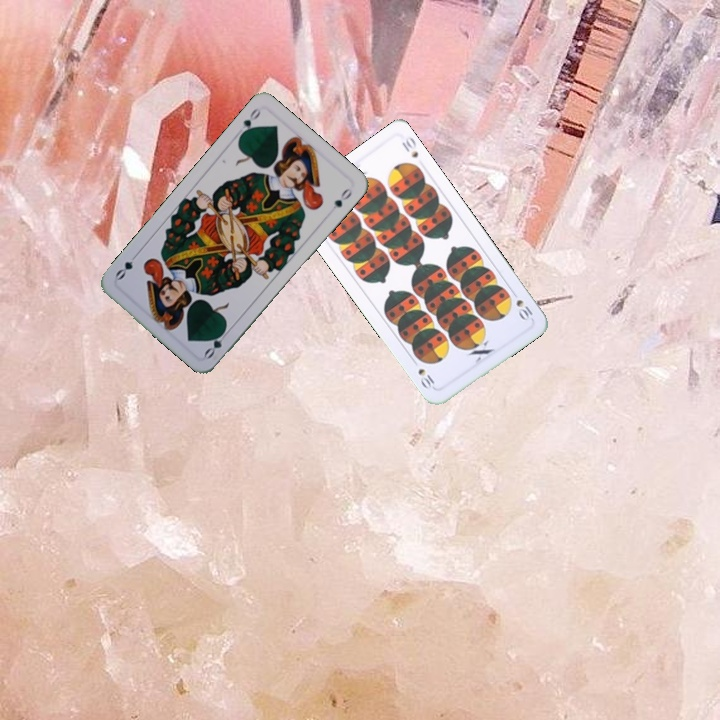GO: (200, 324, 232, 361), (235, 104, 264, 140)
S10: (507, 286, 536, 324)
